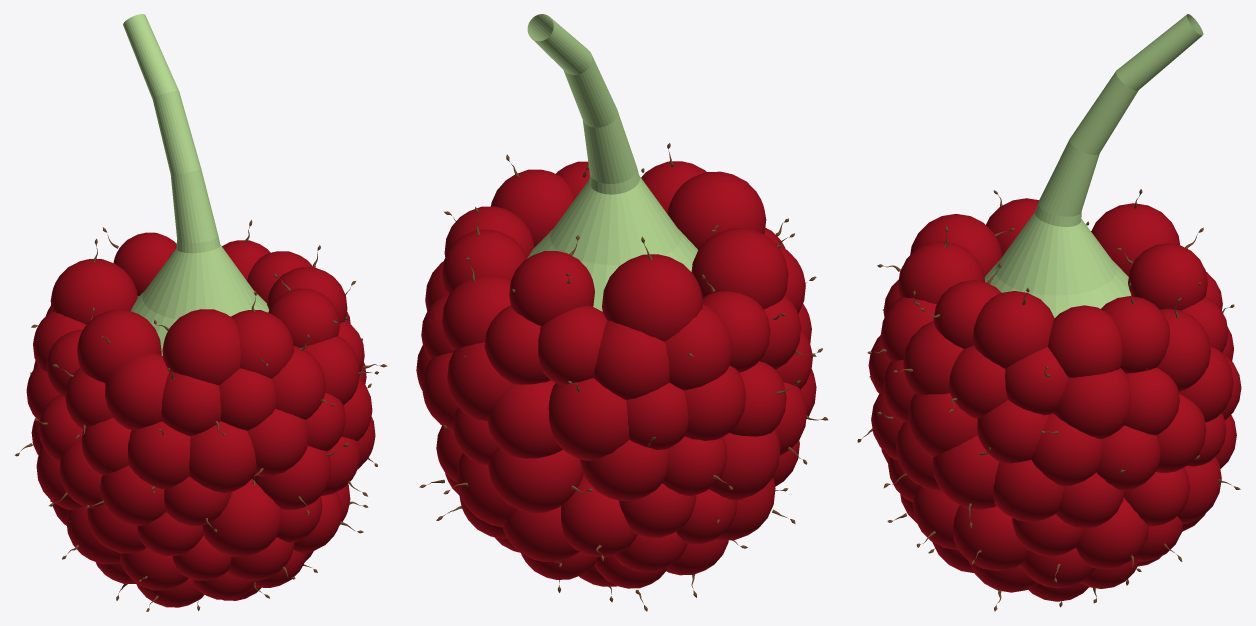
The model's file is raspberry.glb.
3 views of the same model, side by side, from view 1: azimuth 30°, elevation 25°; view 2: azimuth 150°, elevation 25°; view 3: azimuth 270°, elevation 25° (orthographic). The views are drawn at different scales.
Visible parts, largest first — view 1: Object_5, Object_7, Object_4; view 2: Object_5, Object_7, Object_4; view 3: Object_5, Object_7, Object_4.
Part boxes in pixels (box(x1,y1,x2,y2)): Object_5: box(26, 232, 375, 607); Object_7: box(123, 14, 268, 355); Object_4: box(14, 220, 387, 611); Object_5: box(416, 161, 816, 588); Object_7: box(527, 14, 698, 311); Object_4: box(419, 143, 828, 611); Object_5: box(868, 198, 1241, 601); Object_7: box(984, 14, 1203, 317); Object_4: box(857, 189, 1240, 611).
Bounding box in the file's own units: 2.74 × 4.54 × 2.67.
